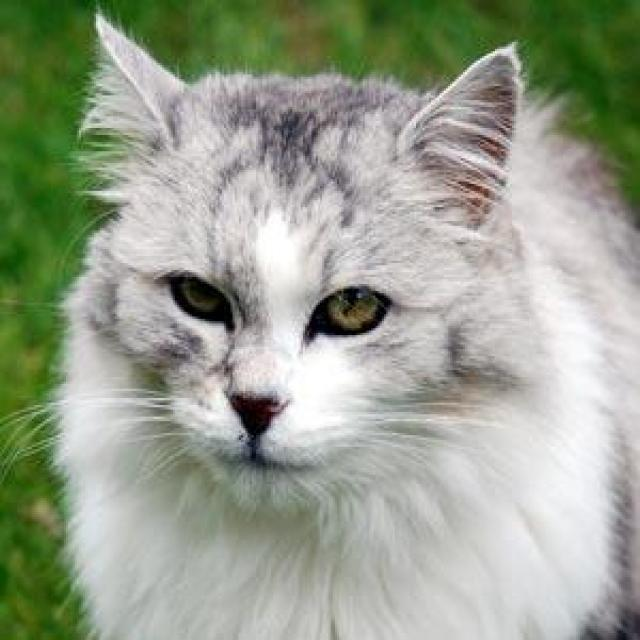Persian: (78, 11, 568, 530)
